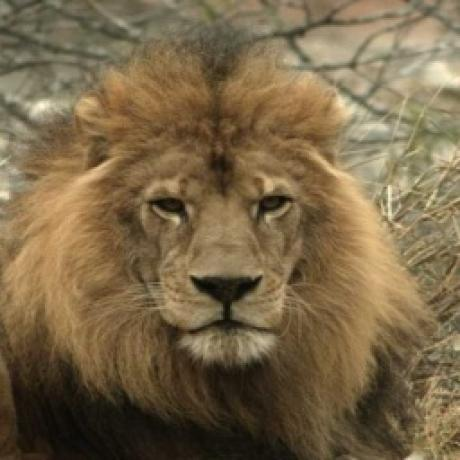Lion: (0, 21, 442, 460)
